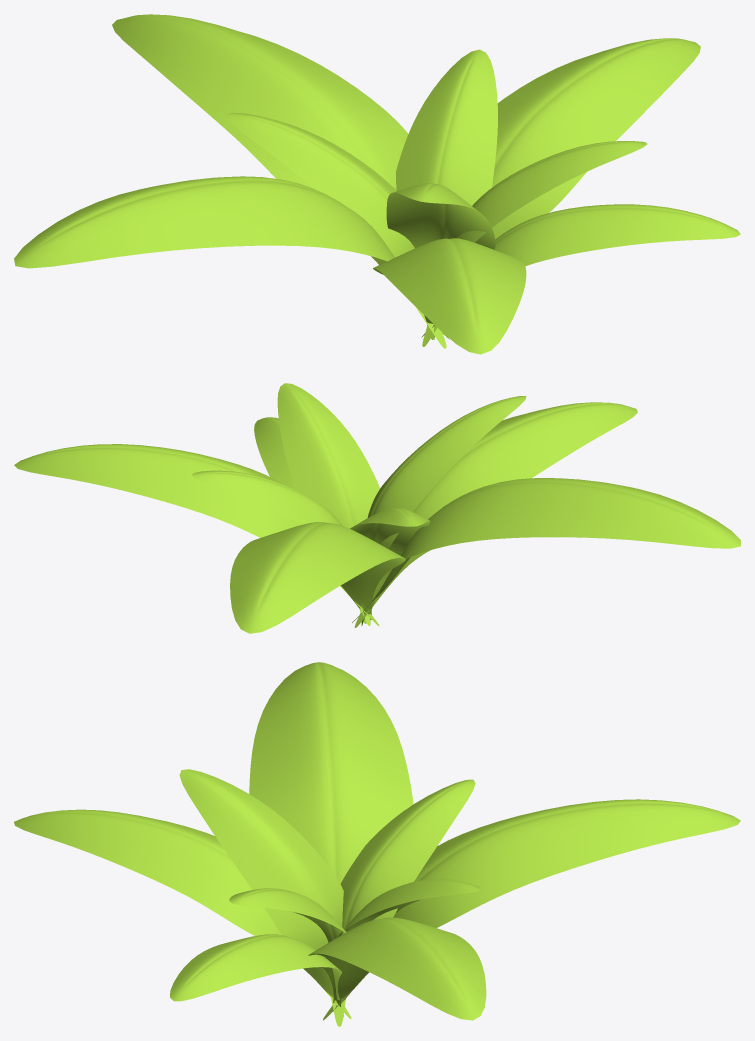
Rendered from Plant.fbx.
3 views of the same model, one above another, from view 1: azimuth 30°, elevation 25°; view 2: azimuth 150°, elevation 25°; view 3: azimuth 270°, elevation 25° (orthographic). The views are drawn at different scales.
Parts seen in each view (by area): view 1: Plant.002; view 2: Plant.002; view 3: Plant.002.
Boxes of the visible parts, box(x1,y1,x2,y2) form: Plant.002: box(14, 14, 740, 354); Plant.002: box(14, 383, 740, 633); Plant.002: box(14, 662, 740, 1026).
Size of the model in its own units: 0.931 by 0.2686 by 0.8598.
